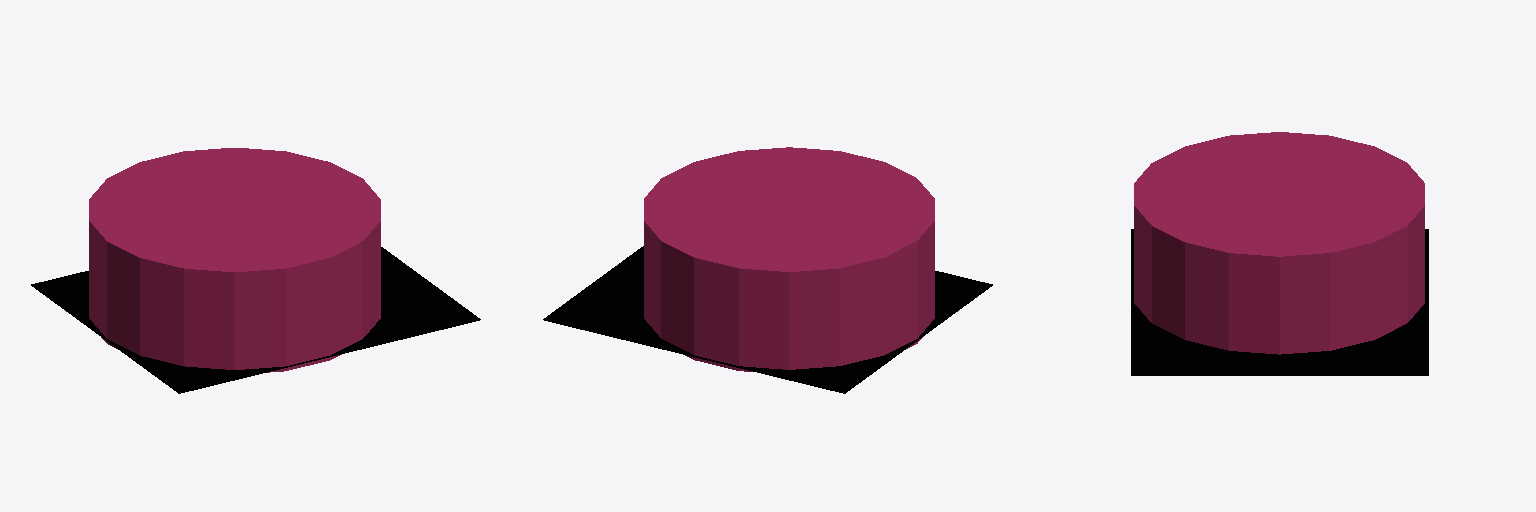
File: sea.obj
The picture shows the model from 3 angles: view 1: azimuth 30°, elevation 25°; view 2: azimuth 150°, elevation 25°; view 3: azimuth 270°, elevation 25°; orthographic projection.
Parts seen in each view (by area): view 1: sea, Plane01; view 2: sea, Plane01; view 3: sea, Plane01.
Boxes of the visible parts, box(x1,y1,x2,y2) form: sea: box(89, 148, 380, 372); Plane01: box(31, 247, 480, 393); sea: box(644, 147, 934, 371); Plane01: box(543, 246, 992, 393); sea: box(1134, 132, 1424, 354); Plane01: box(1131, 229, 1428, 375).
Bounding box in the file's own units: 555 × 180 × 473.